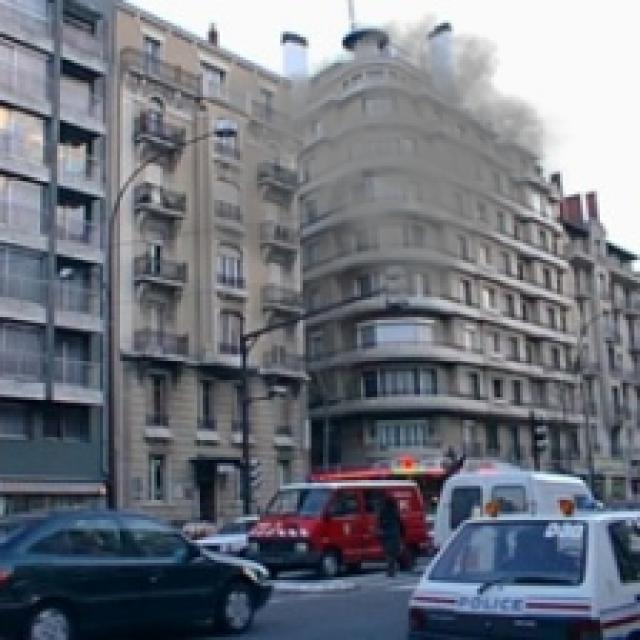smoke: (180, 11, 574, 406)
